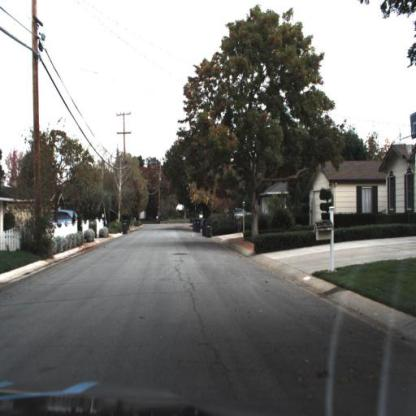car: (44, 206, 88, 230), (223, 205, 254, 230)
